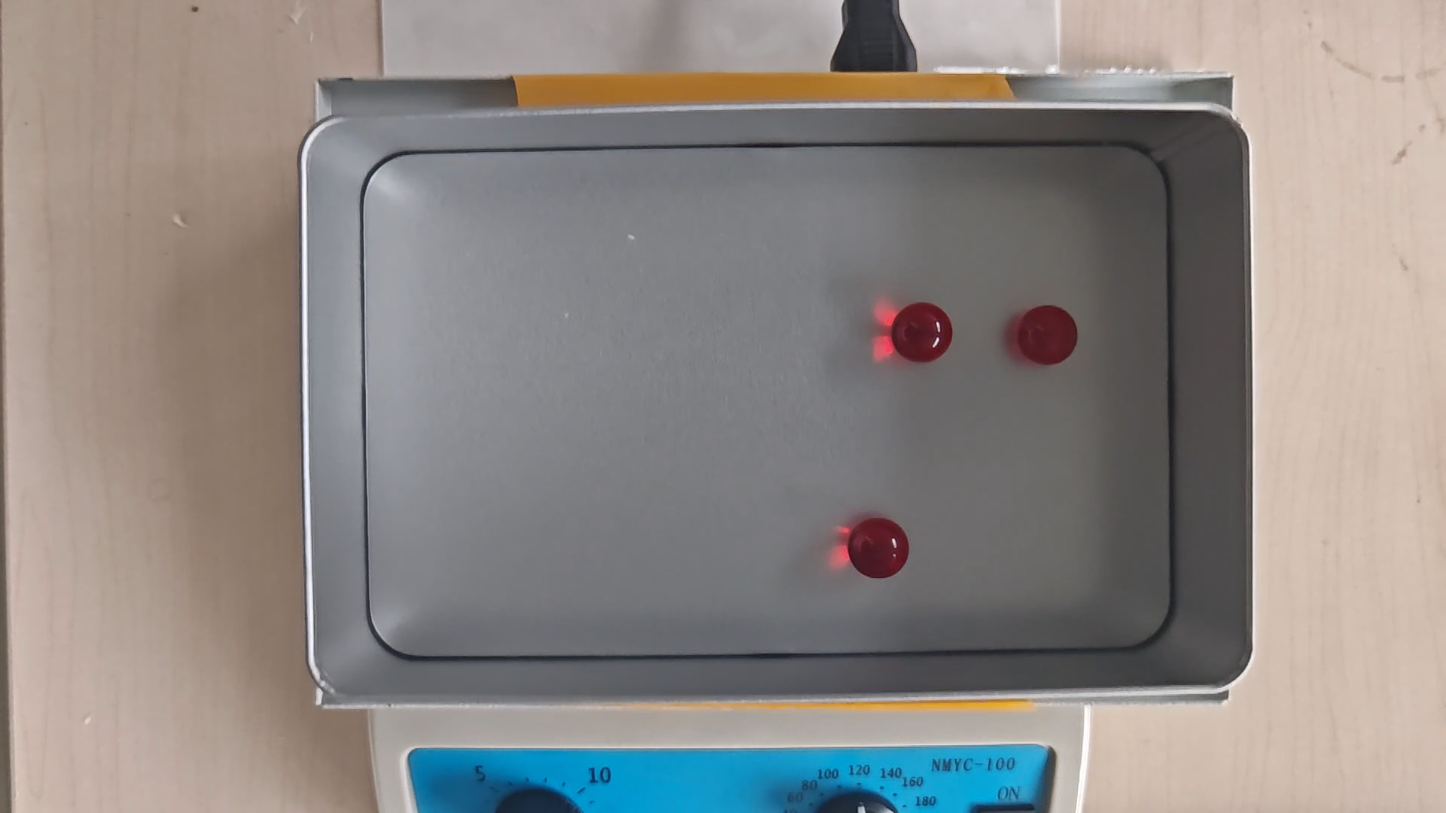ball: (891, 302, 953, 363), (1017, 305, 1078, 367), (848, 518, 909, 579)
container: (363, 144, 1173, 652)
